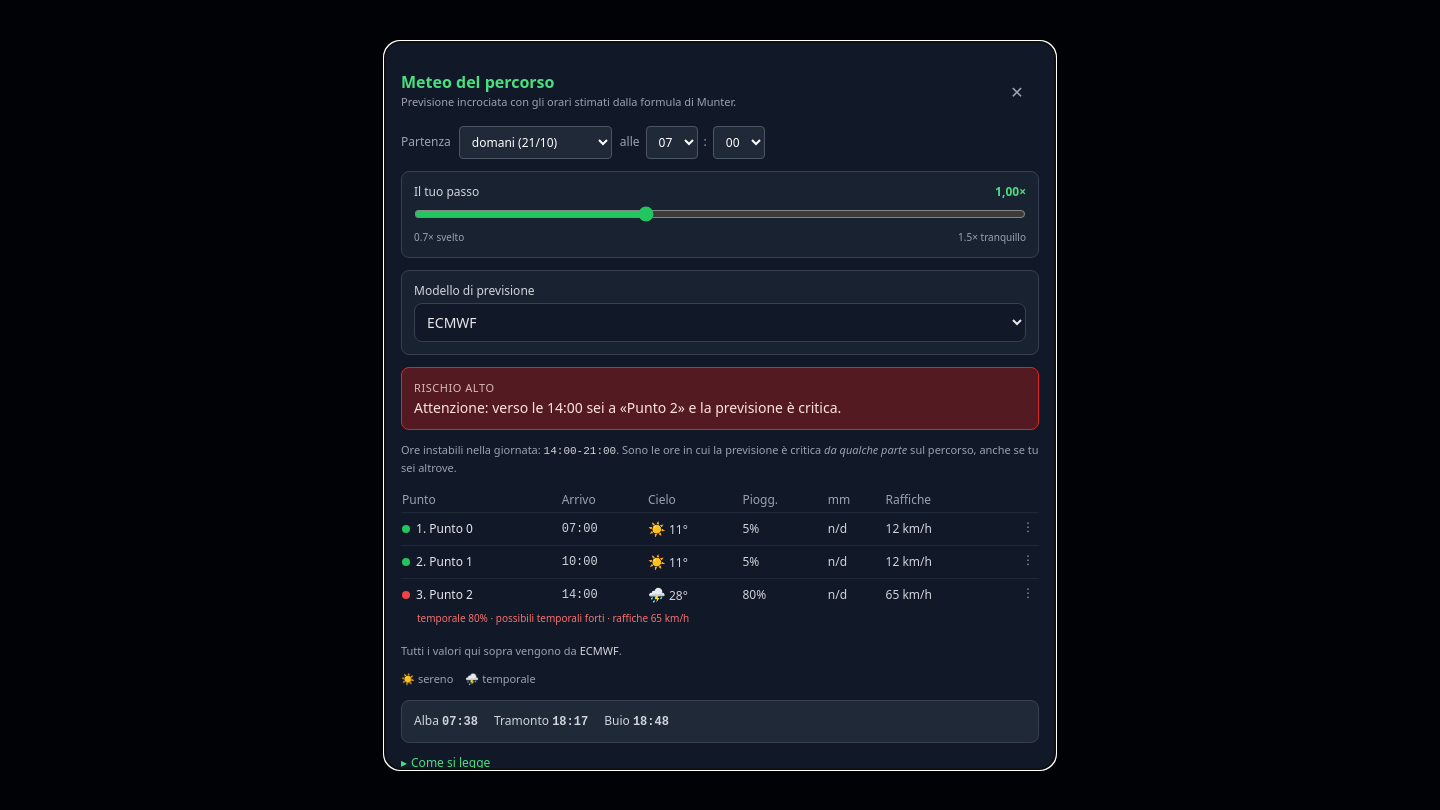
it: Meteo del percorso › cambiare modello cambia il verdetto senza una nuova richiesta
Expected: the table is shown, [401, 488, 1039, 631]
Expected: the text "Tutti i valori qui sopra vengono da ECMWF." is shown, [401, 643, 622, 658]
Select "ICON" in the dropdown labelled "Modello di previsione" at [720, 322], box [414, 302, 1026, 342]
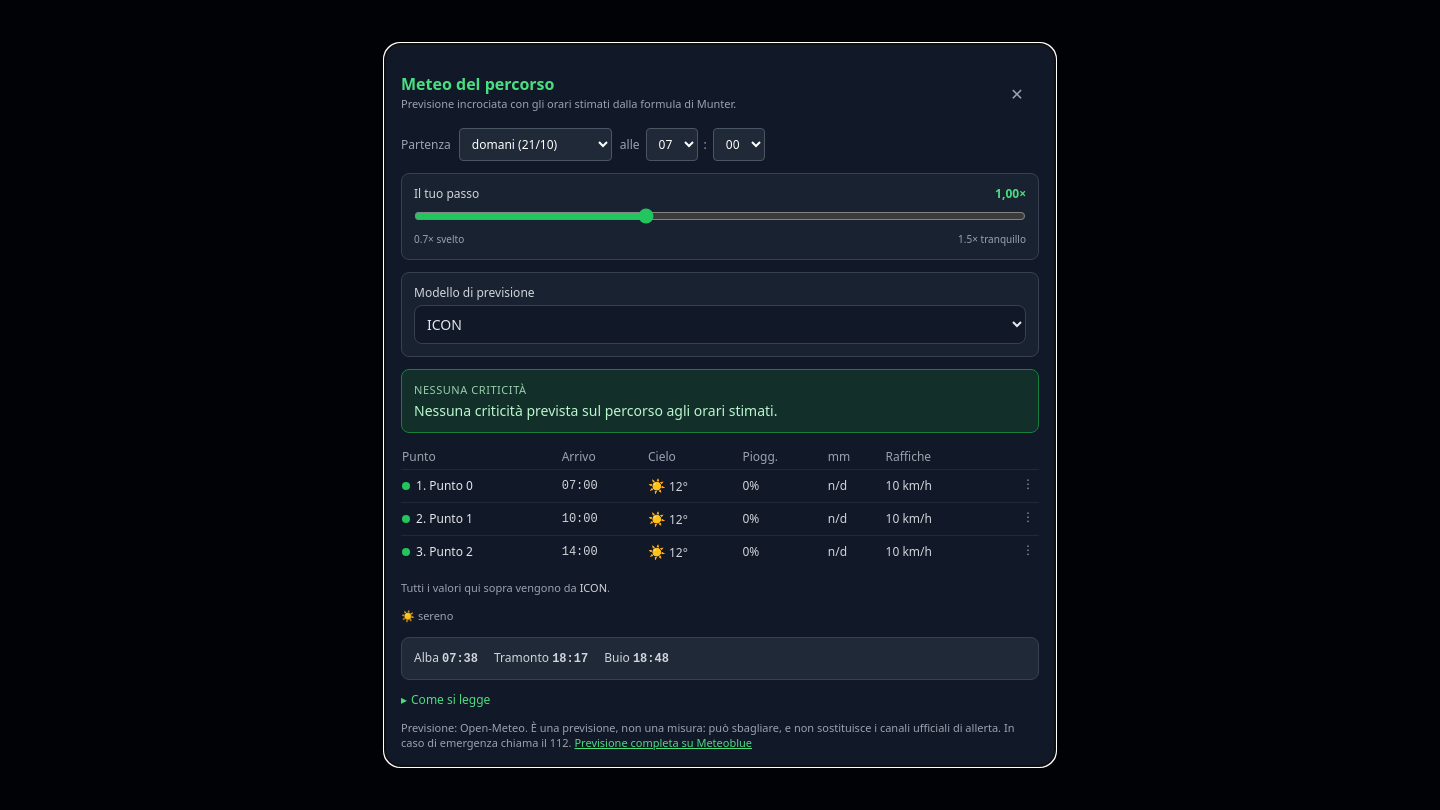
Expected: the text "Tutti i valori qui sopra vengono da ICON." is shown, [401, 580, 610, 595]
Expected: the message shows "Nessuna criticità", [414, 382, 527, 397]
